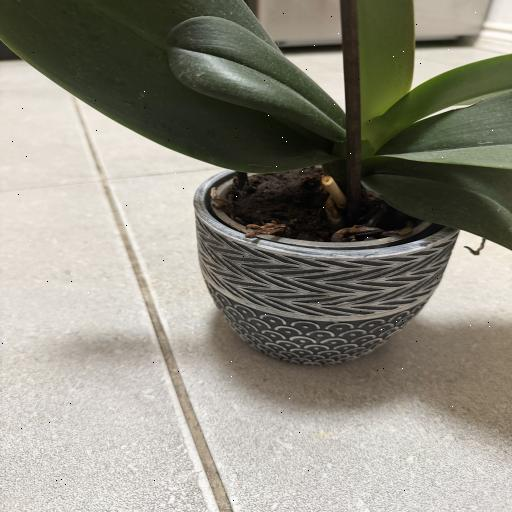Plant Pot: (193, 166, 465, 367)
